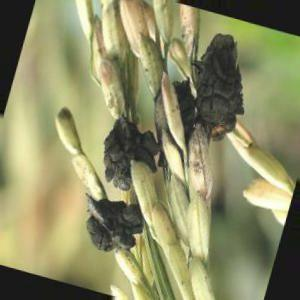Leaf_Scald: (106, 115, 158, 192), (203, 39, 242, 139), (84, 193, 142, 258)
